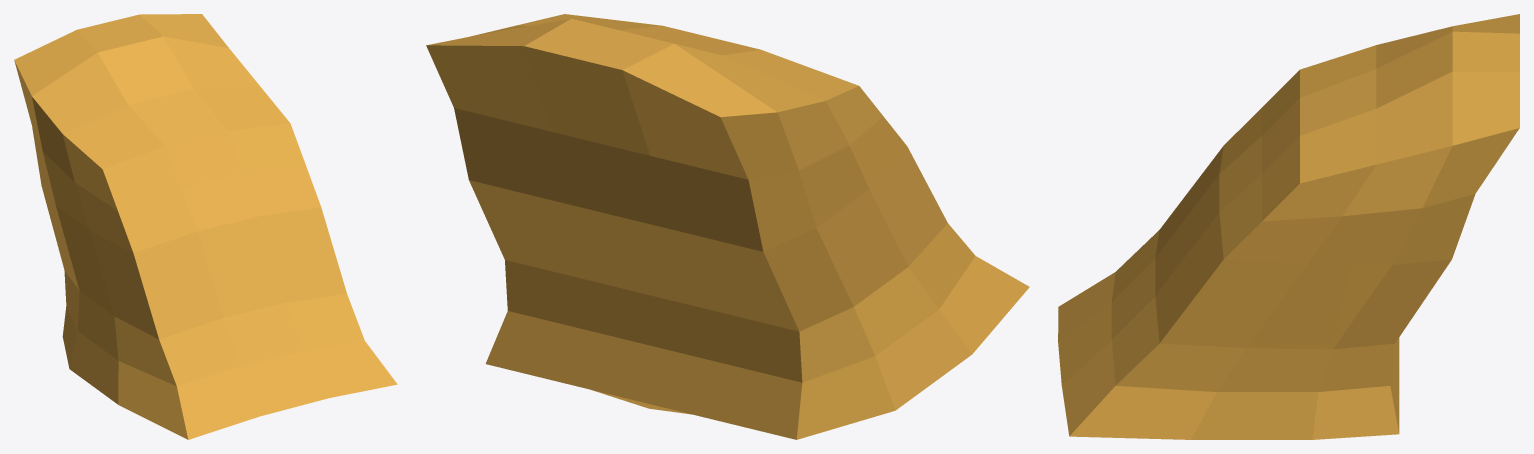
The model's file is roccia_215.fbx.
3 renders of one model, left to right at view 1: azimuth 30°, elevation 25°; view 2: azimuth 150°, elevation 25°; view 3: azimuth 270°, elevation 25°, orthographic. The views are drawn at different scales.
Visible parts, largest first — view 1: roccia_215; view 2: roccia_215; view 3: roccia_215.
Part boxes in pixels (bbox=[...]): roccia_215: bbox=[14, 14, 397, 439]; roccia_215: bbox=[426, 14, 1029, 439]; roccia_215: bbox=[1058, 14, 1519, 439].
Size of the model in its own units: 73.96 by 87.81 by 101.
